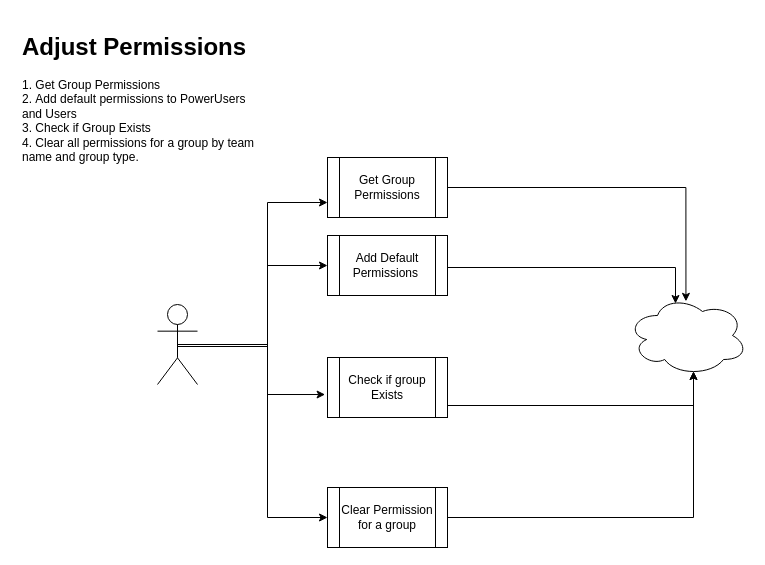
Some shapes in this 765 by 565 pixel diagram are drawn without their labels. Each missing label, with the box of its shape:
Actor: (156, 304, 198, 384)
Dynatrace SaaS Account: (626, 294, 748, 376)
